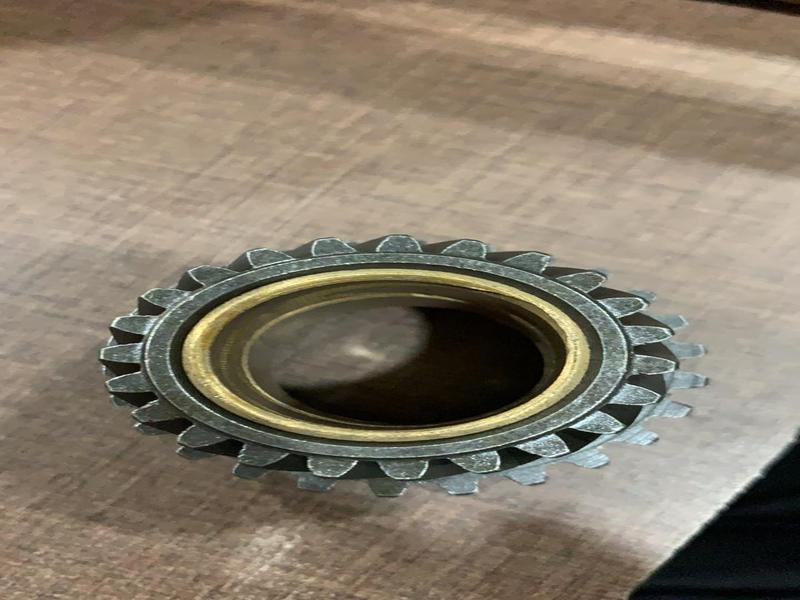engine gear alfa: (96, 223, 720, 532)
